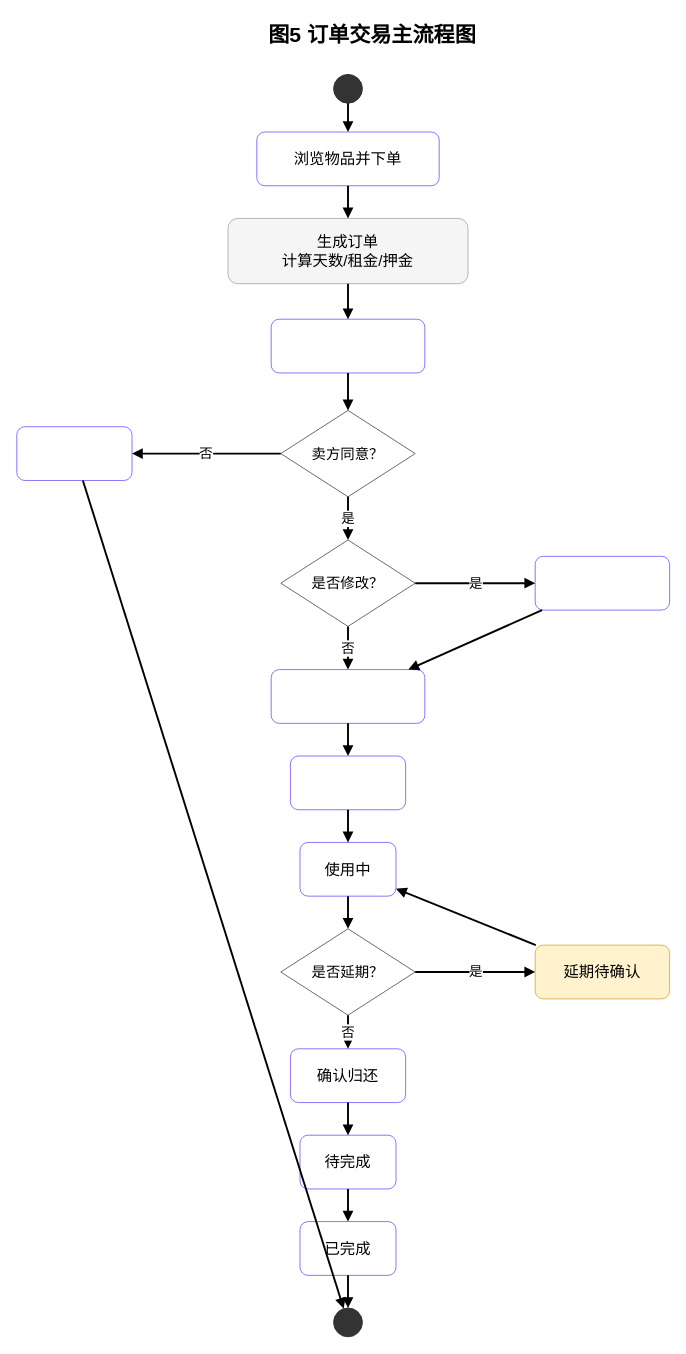
Image size: 686x1354. Some labels were removed from this diagram. Here are the shapes that lost their labels. From the top down, the centre of each, then its label:
At [347,345]: "待卖方确认".
At [74,453]: "已取消".
At [602,582]: "待买方确认".
At [347,696]: "待线下交接".
At [347,782]: "确认交付".
